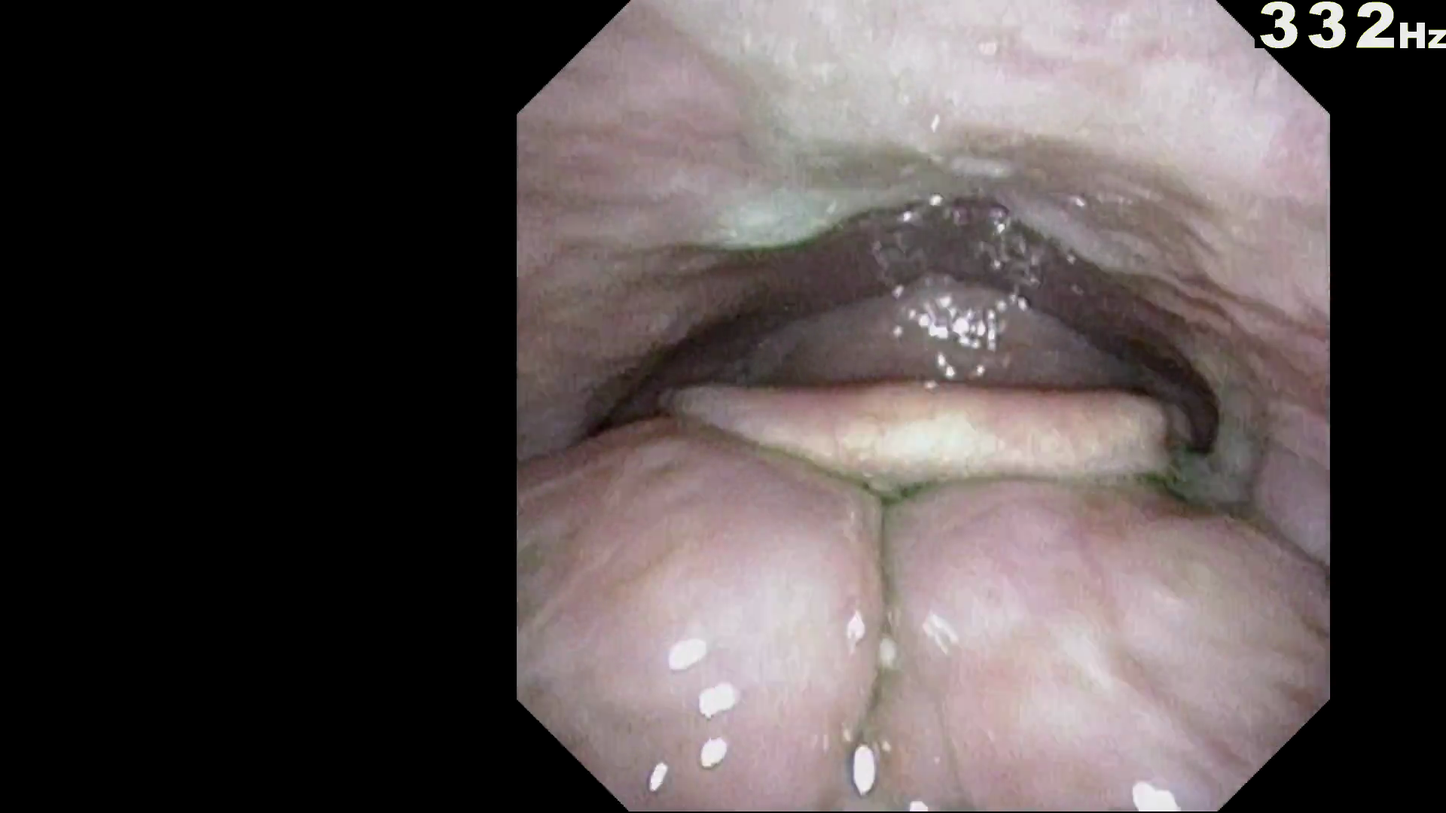epiglottis: (681, 388, 1183, 499)
